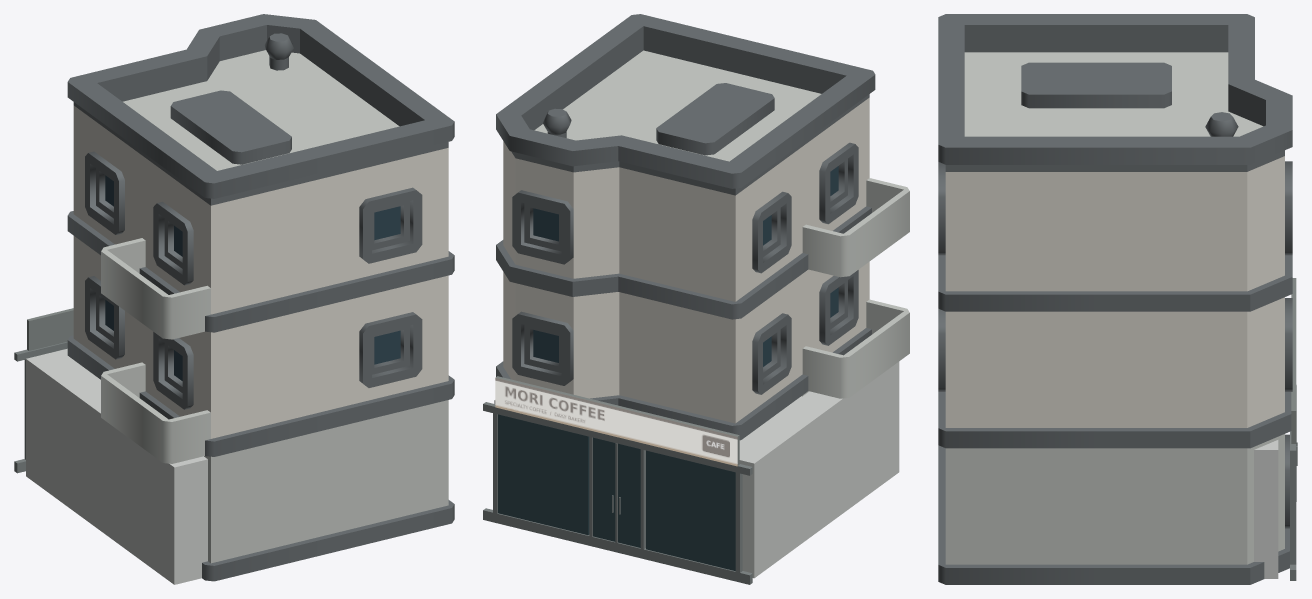
File: coffee-metric.glb
3 renders of one model, left to right at view 1: azimuth 30°, elevation 25°; view 2: azimuth 150°, elevation 25°; view 3: azimuth 270°, elevation 25°, orthographic. The views are drawn at different scales.
Parts seen in each view (by area): view 1: Complete closed coffee exterior; view 2: Complete closed coffee exterior; view 3: Complete closed coffee exterior.
Boxes of the visible parts, <box> form: Complete closed coffee exterior: <box>14,14,454,584</box>; Complete closed coffee exterior: <box>483,14,909,584</box>; Complete closed coffee exterior: <box>938,14,1297,584</box>.
Size of the model in its own units: 10.4 by 13.86 by 10.23.
Materials: 9 (1 with a texture image).
